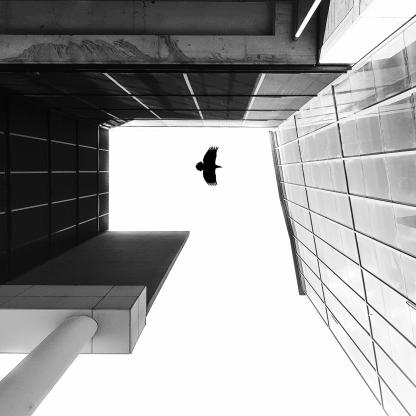bird: (196, 146, 224, 186)
